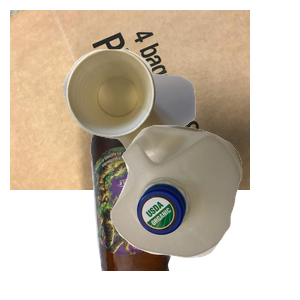cardboard: (10, 10, 250, 190)
glass: (88, 120, 252, 300)
plastic: (108, 123, 300, 300)
trash: (60, 47, 300, 227)
